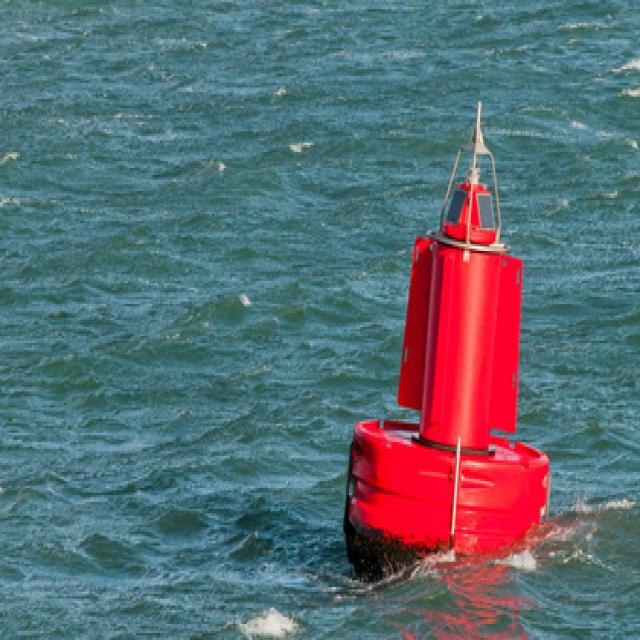buoy: (340, 94, 554, 576)
